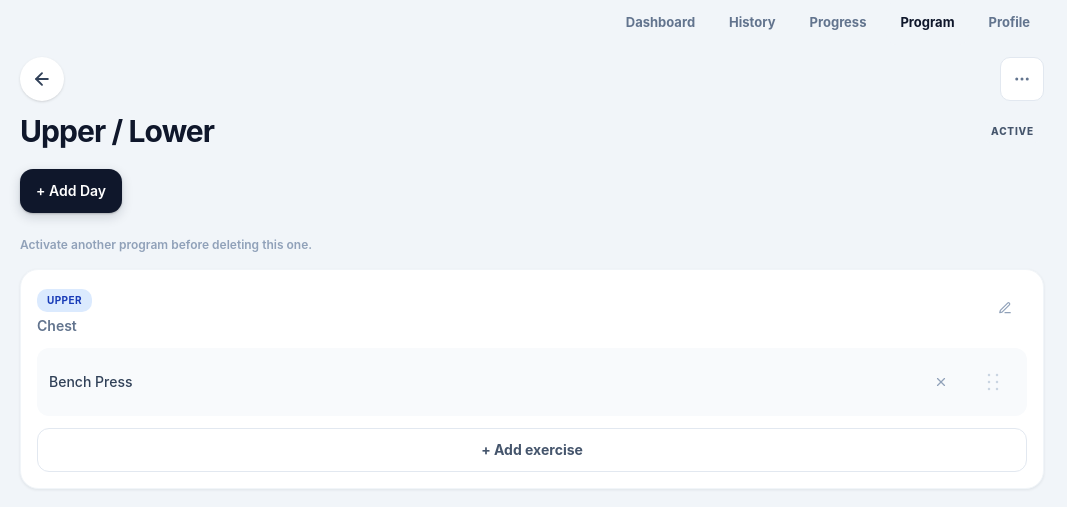
Scenario: program editor page actions › shows active state and omits the action-row activation button for the active program
The width and height of the screenshot is (1067, 507).
expect the text "Active" is shown: met, box [981,120,1044,142]
Click the button named "More actions for Upper / Lower" at {"x": 1022, "y": 79}, box [1000,57,1044,101]
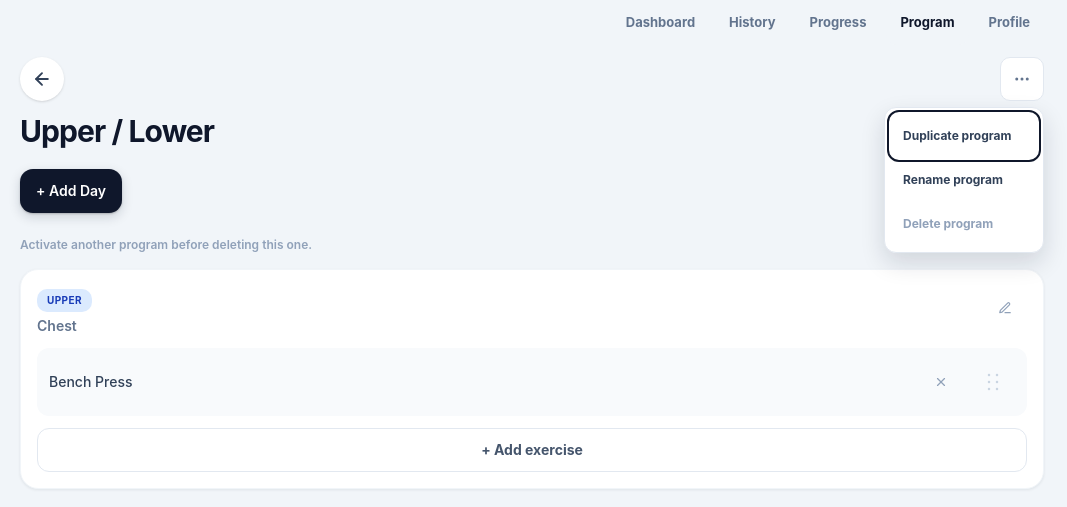
expect the menu item "Rename program" is shown: met, box [891,158,1037,202]
expect the menu item "Duplicate program" is shown: met, box [891,114,1037,158]
